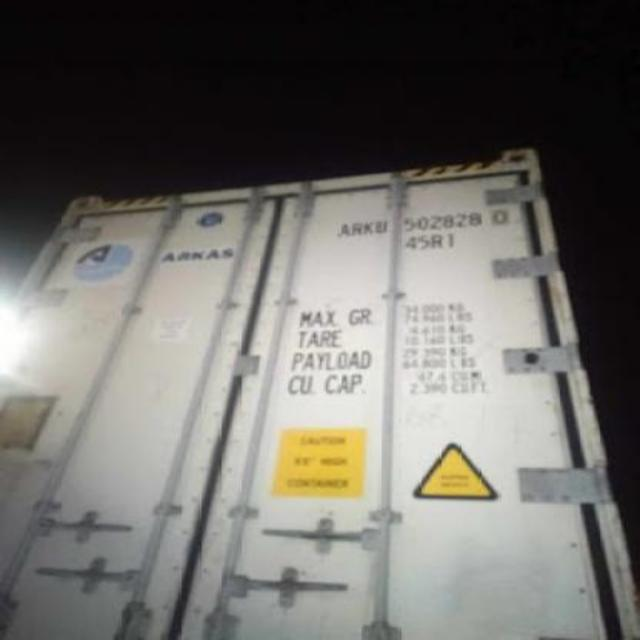0: (496, 209, 506, 225), (418, 216, 428, 230)
2: (458, 211, 468, 229), (432, 216, 444, 228)
5: (404, 216, 416, 232)
8: (444, 214, 456, 230), (470, 210, 480, 226)
A: (336, 222, 352, 238)
K: (366, 220, 376, 236)
R: (352, 224, 364, 236)
U: (376, 218, 389, 234)
